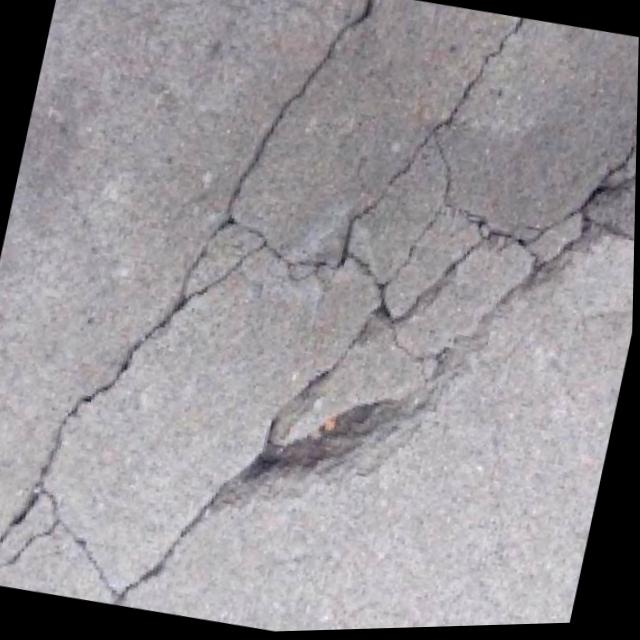Crack: (196, 0, 640, 439), (0, 256, 321, 635)
